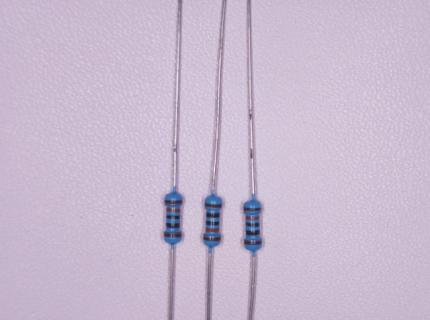Black band: (167, 215, 180, 220), (167, 223, 180, 228), (246, 231, 260, 235), (206, 221, 219, 225), (246, 223, 259, 227), (207, 213, 219, 217)
Brown band: (164, 232, 181, 237), (204, 236, 220, 241), (244, 241, 262, 245), (165, 200, 182, 204), (244, 208, 260, 211), (205, 204, 221, 207)
Orange band: (206, 227, 219, 232), (167, 208, 180, 212), (246, 216, 259, 220)
